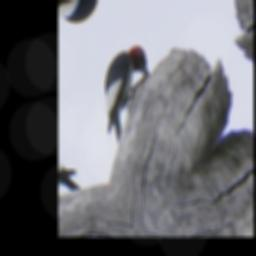Woodpecker: (83, 29, 168, 151)
